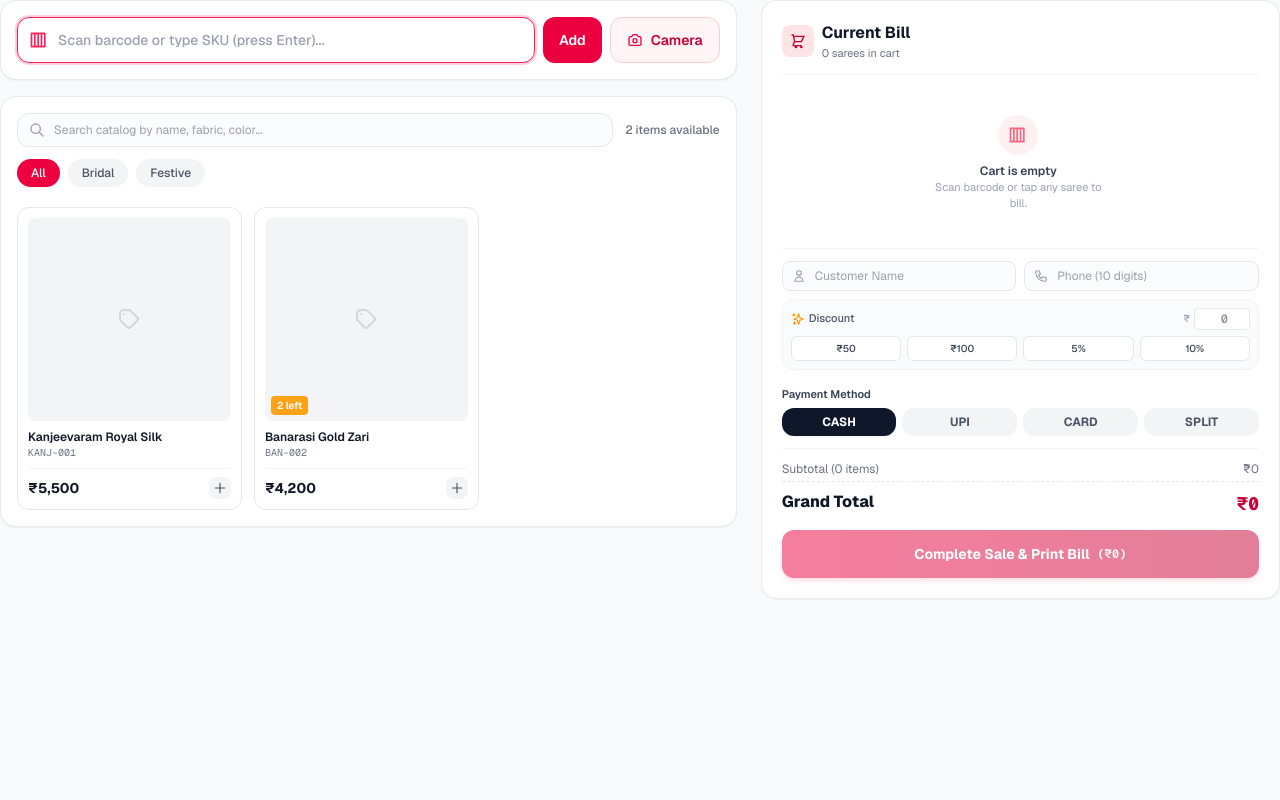
Test: SaleCart UI & Modernized POS Component › applies discount presets accurately
Step 1. Click the text "Kanjeevaram Royal Silk" → x=95, y=437, box [28, 429, 162, 445]
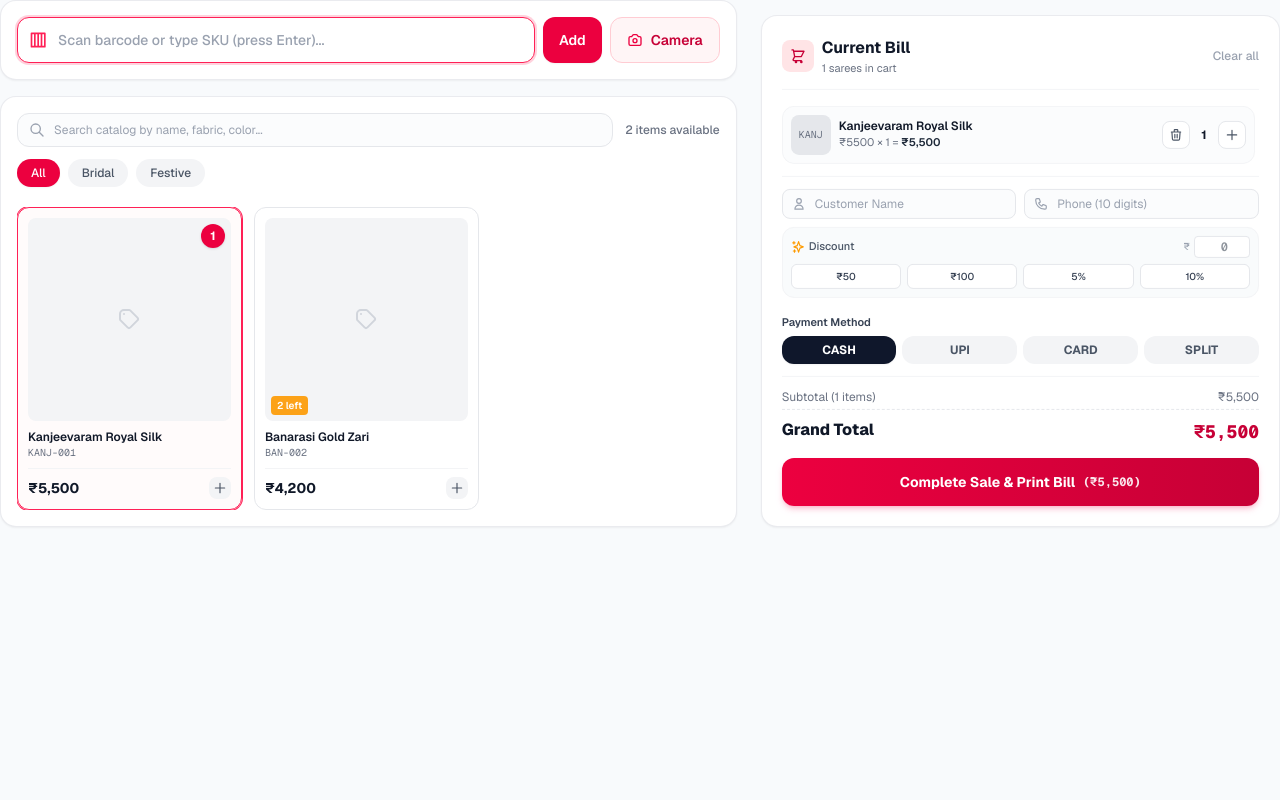
Step 2. Click the button "10%" → x=1195, y=276, box [1140, 263, 1250, 288]
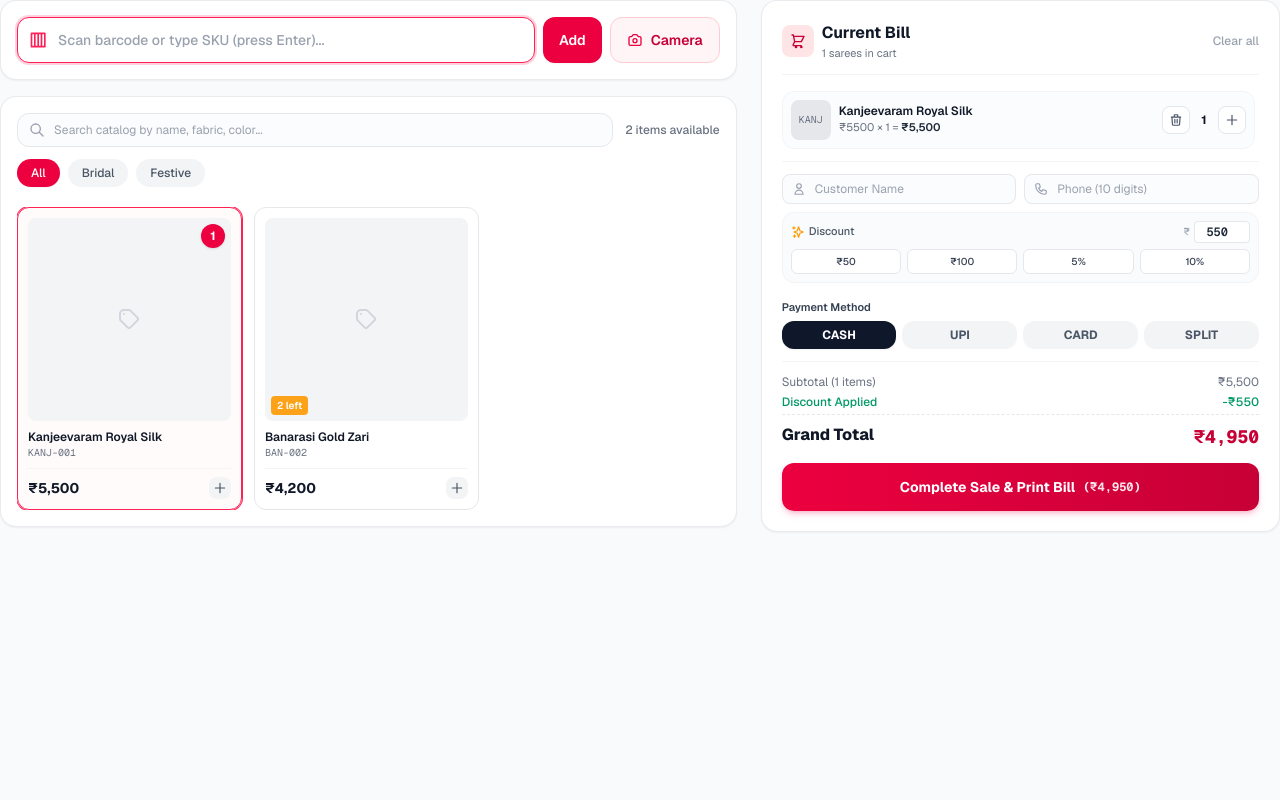
expect the text "Discount Applied" is shown: met, box [782, 394, 877, 410]
expect the text "-₹550" is shown: met, box [1222, 394, 1259, 410]
expect the text "₹4,950" is shown: met, box [1194, 423, 1259, 451]
